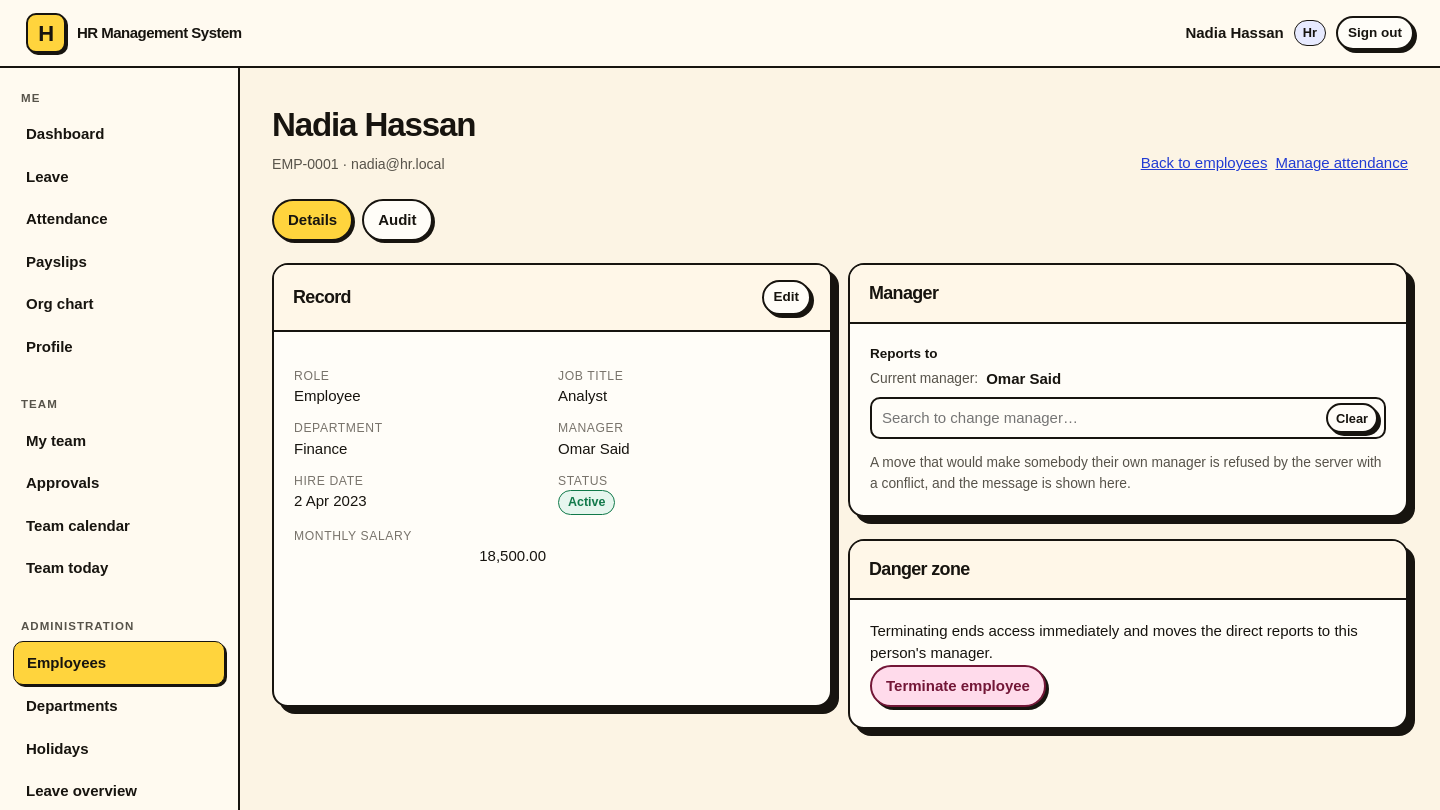
Scenario: employee detail › posts nothing when the termination dialog is dismissed
Click the button "Terminate employee" at (958, 686), box [870,665,1046,707]
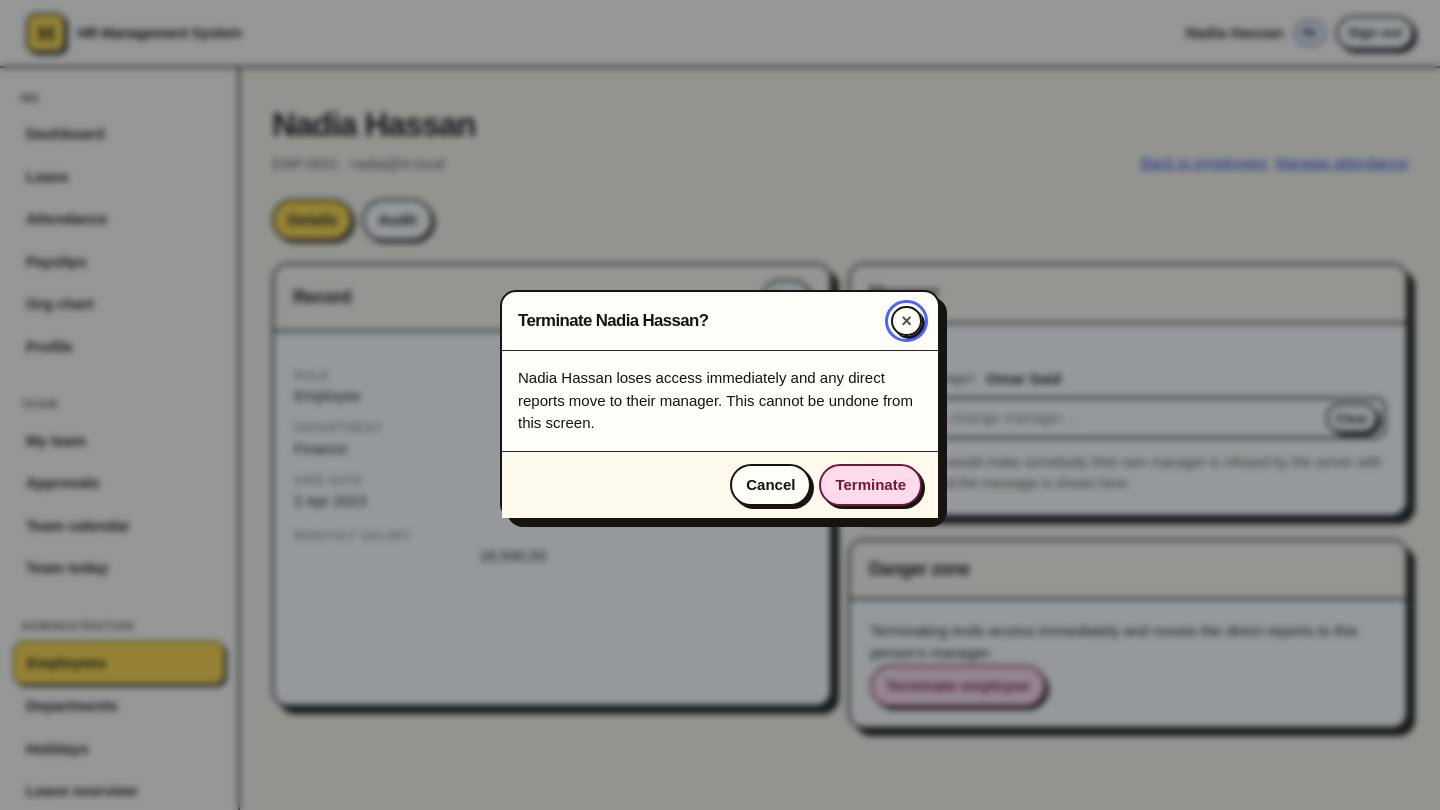
Click the button "Cancel" at (771, 485), box [730,464,811,506]
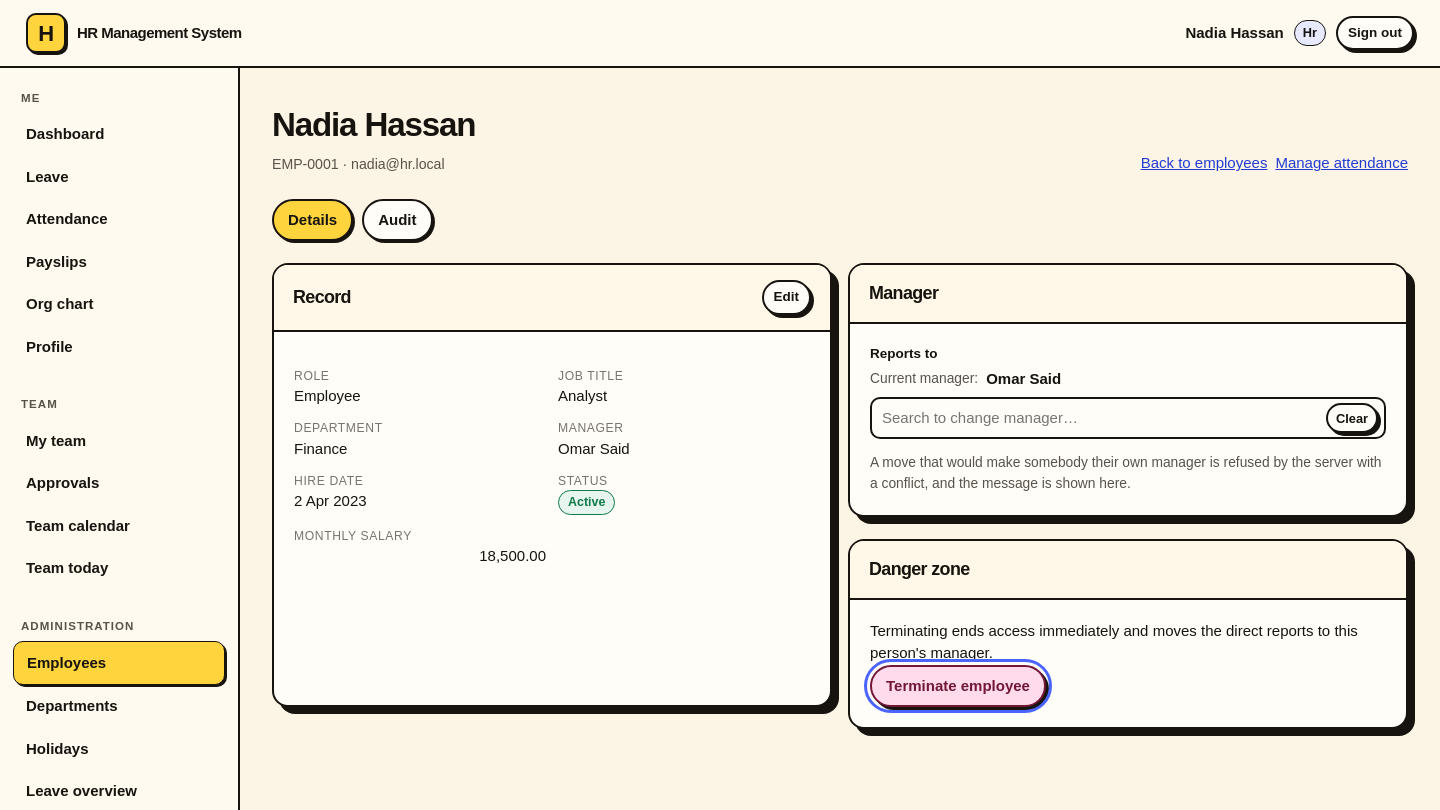
Expected: the dialog is gone
